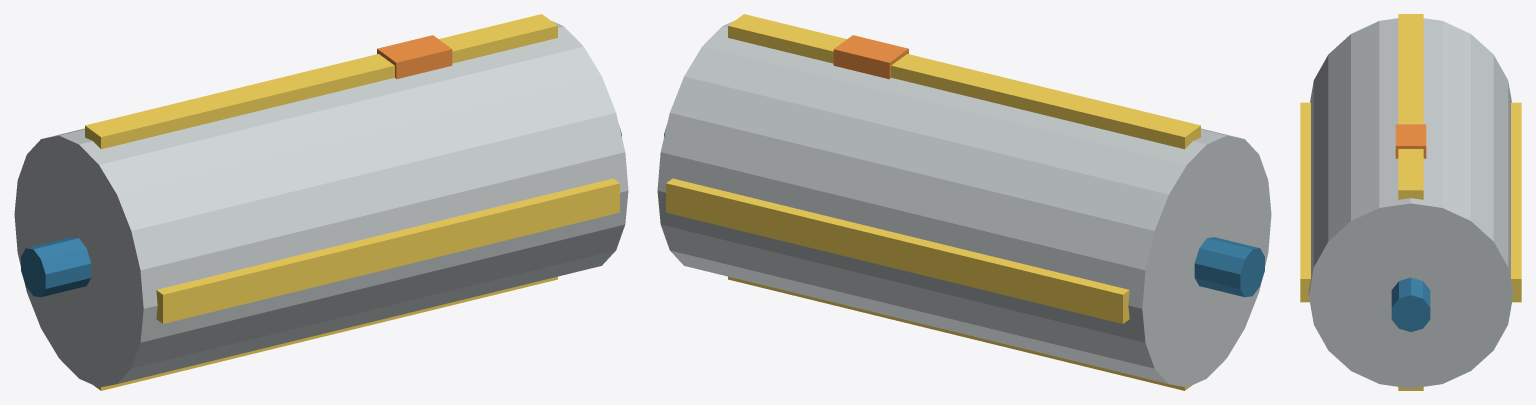
The model's file is CYCLE-011.glb.
The picture shows the model from 3 angles, left to right: view 1: azimuth 30°, elevation 25°; view 2: azimuth 150°, elevation 25°; view 3: azimuth 270°, elevation 25°; orthographic projection. The views are drawn at different scales.
Visible parts, largest first — view 1: CYCLE-011; view 2: CYCLE-011; view 3: CYCLE-011.
Part boxes in pixels (x1,y1,x2,y2): CYCLE-011: (14, 14, 628, 390); CYCLE-011: (657, 14, 1271, 390); CYCLE-011: (1300, 14, 1521, 390).
Bounding box in the file's own units: 3.09 × 1.32 × 1.3.
